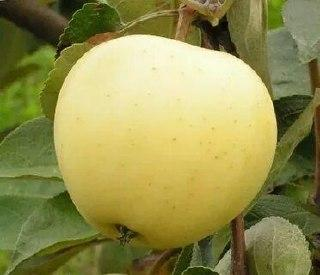Apple: (53, 36, 273, 250)
